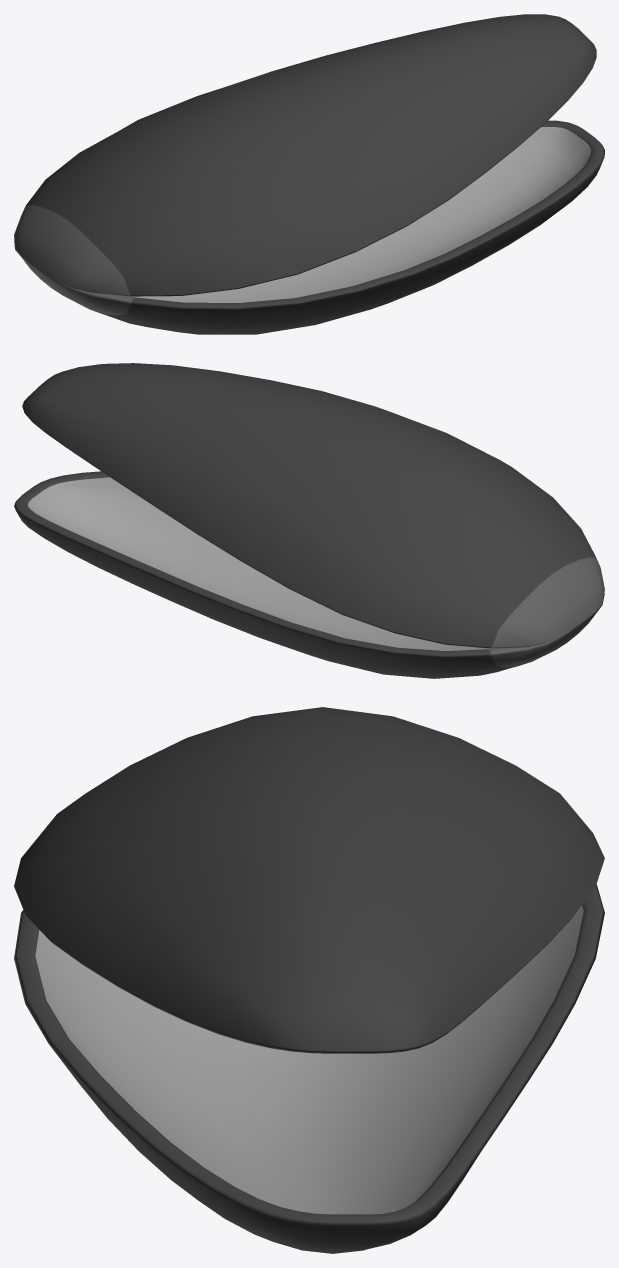
File: Mussel_Empty_1.fbx
The picture shows the model from 3 angles, top to bottom: view 1: azimuth 30°, elevation 25°; view 2: azimuth 150°, elevation 25°; view 3: azimuth 270°, elevation 25°; orthographic projection. The views are drawn at different scales.
Parts seen in each view (by area): view 1: Mussel_Empty_1; view 2: Mussel_Empty_1; view 3: Mussel_Empty_1.
Boxes of the visible parts, bbox=[...] form: Mussel_Empty_1: bbox=[14, 14, 604, 334]; Mussel_Empty_1: bbox=[14, 363, 604, 678]; Mussel_Empty_1: bbox=[14, 707, 604, 1253].
Bounding box in the file's own units: 8.64 × 3.44 × 4.88.
